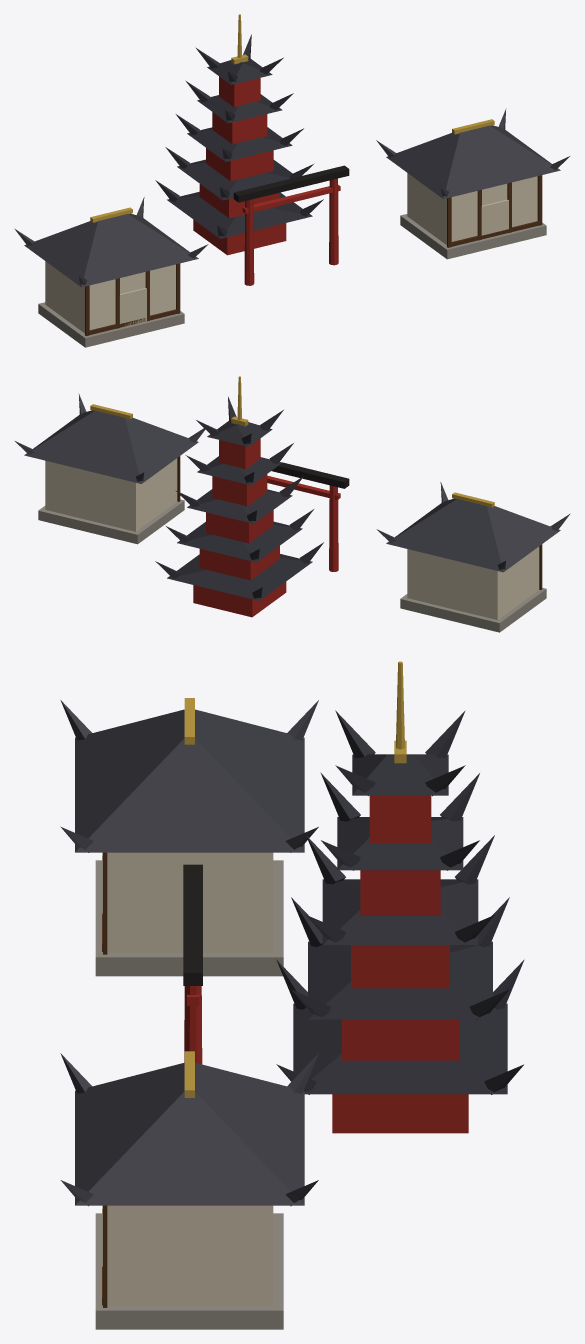
Rendered from macaque_court_broken.glb.
3 views of the same model, one above another, from view 1: azimuth 30°, elevation 25°; view 2: azimuth 150°, elevation 25°; view 3: azimuth 270°, elevation 25° (orthographic). The views are drawn at different scales.
Visible parts, largest first — view 1: macaque_court_piece8, macaque_court_piece9, macaque_court_piece3, macaque_court_piece5, macaque_court_piece4, macaque_court_piece6, macaque_court_piece10, macaque_court_piece2, macaque_court_piece1, macaque_court_piece7, macaque_court_piece13, macaque_court_piece11 (+1 smaller); view 2: macaque_court_piece3, macaque_court_piece4, macaque_court_piece5, macaque_court_piece8, macaque_court_piece6, macaque_court_piece9, macaque_court_piece10, macaque_court_piece13, macaque_court_piece2, macaque_court_piece7, macaque_court_piece11, macaque_court_piece1; view 3: macaque_court_piece3, macaque_court_piece8, macaque_court_piece5, macaque_court_piece13, macaque_court_piece6, macaque_court_piece4, macaque_court_piece1, macaque_court_piece10, macaque_court_piece9, macaque_court_piece2, macaque_court_piece7, macaque_court_piece0.
Boxes of the visible parts, <box> form: macaque_court_piece8: <box>38,206,184,347</box>; macaque_court_piece9: <box>410,168,546,259</box>; macaque_court_piece3: <box>380,108,569,228</box>; macaque_court_piece5: <box>155,115,303,237</box>; macaque_court_piece4: <box>14,197,147,287</box>; macaque_court_piece6: <box>165,14,283,155</box>; macaque_court_piece10: <box>190,186,296,285</box>; macaque_court_piece2: <box>254,165,451,243</box>; macaque_court_piece1: <box>133,187,257,273</box>; macaque_court_piece7: <box>155,194,277,277</box>; macaque_court_piece13: <box>253,93,303,197</box>; macaque_court_piece11: <box>376,140,446,230</box>; macaque_court_piece3: <box>15,393,166,544</box>; macaque_court_piece4: <box>376,492,570,600</box>; macaque_court_piece5: <box>181,476,303,617</box>; macaque_court_piece8: <box>384,504,546,632</box>; macaque_court_piece6: <box>185,376,293,553</box>; macaque_court_piece9: <box>148,428,205,536</box>; macaque_court_piece10: <box>262,513,338,609</box>; macaque_court_piece13: <box>155,456,224,581</box>; macaque_court_piece2: <box>150,430,332,526</box>; macaque_court_piece7: <box>300,480,448,544</box>; macaque_court_piece11: <box>142,434,175,537</box>; macaque_court_piece1: <box>274,475,453,522</box>; macaque_court_piece3: <box>60,1051,318,1329</box>; macaque_court_piece8: <box>75,740,309,976</box>; macaque_court_piece5: <box>306,835,524,1133</box>; macaque_court_piece13: <box>306,840,523,1094</box>; macaque_court_piece6: <box>320,661,509,916</box>; macaque_court_piece4: <box>60,698,318,836</box>; macaque_court_piece1: <box>75,764,323,987</box>; macaque_court_piece10: <box>184,907,359,1133</box>; macaque_court_piece9: <box>60,1053,126,1329</box>; macaque_court_piece2: <box>124,879,202,1078</box>; macaque_court_piece7: <box>60,809,201,1024</box>; macaque_court_piece0: <box>276,989,389,1094</box>.
Bounding box in the file's own units: 6.53 × 2.8 × 2.67.
